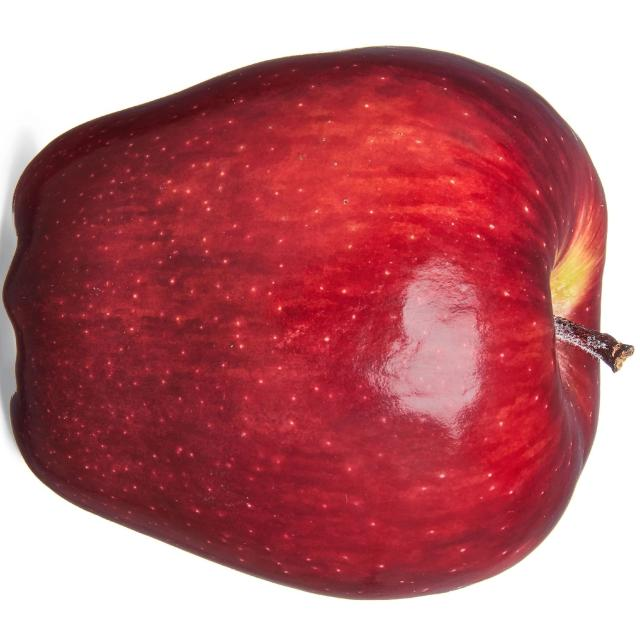100-_ripeness: (5, 48, 618, 583)
